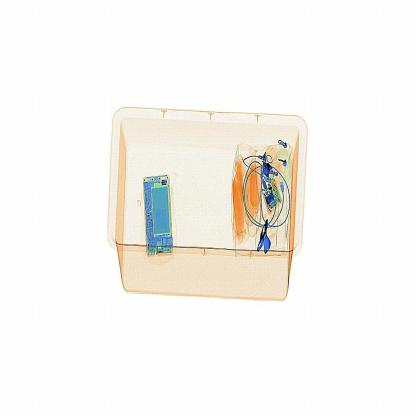wrench: (256, 215, 278, 265)
